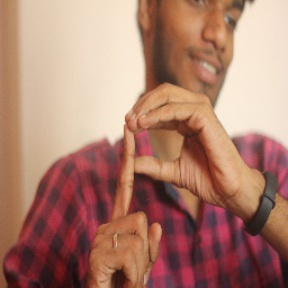P: (96, 81, 234, 260)
